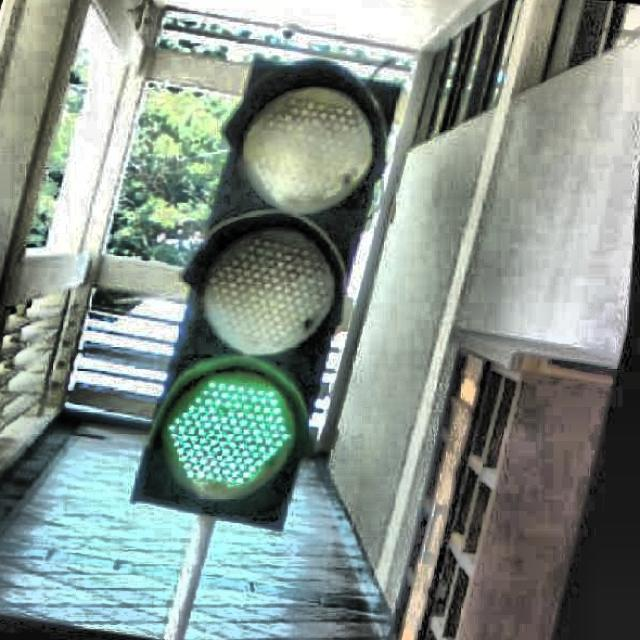green: (132, 66, 404, 504)
